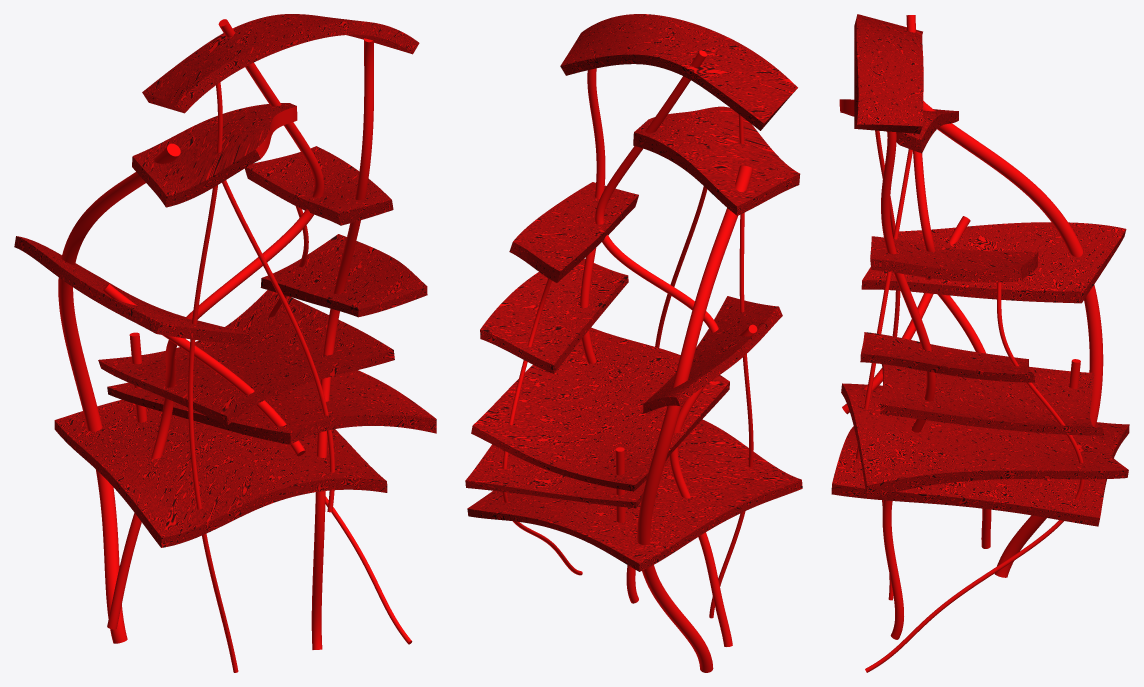
File: jack-the-lad-xx-red-v10.glb
3 views of the same model, side by side, from view 1: azimuth 30°, elevation 25°; view 2: azimuth 150°, elevation 25°; view 3: azimuth 270°, elevation 25° (orthographic). The views are drawn at different scales.
Visible parts, largest first — view 1: Merged Objects 10, Merged Objects 8; view 2: Merged Objects 10, Merged Objects 8; view 3: Merged Objects 10, Merged Objects 8.
Boxes of the visible parts, box(x1,y1,x2,y2) form: Merged Objects 10: box(14, 14, 436, 547); Merged Objects 8: box(58, 19, 412, 672); Merged Objects 10: box(465, 14, 802, 571); Merged Objects 8: box(502, 50, 757, 672); Merged Objects 10: box(831, 14, 1129, 526); Merged Objects 8: box(839, 15, 1103, 672).
Bounding box in the file's own units: 0.529 × 1.15 × 0.5269.
2 materials, 1 textured.
